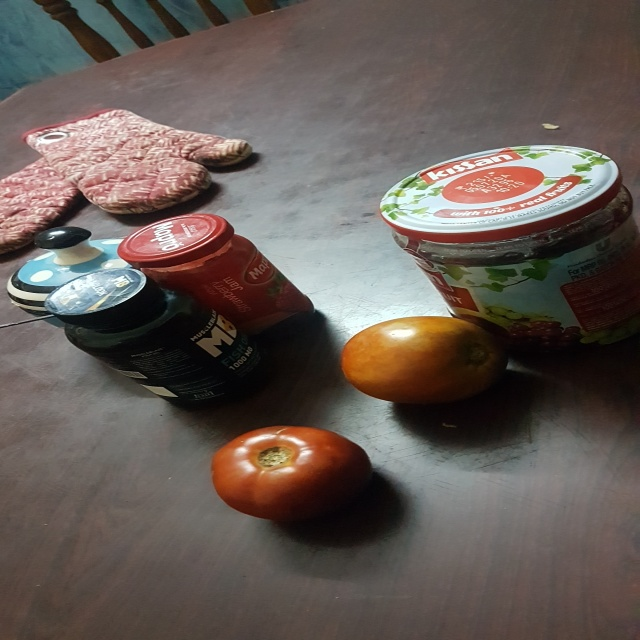tomato: (332, 308, 519, 410), (210, 422, 377, 523)
